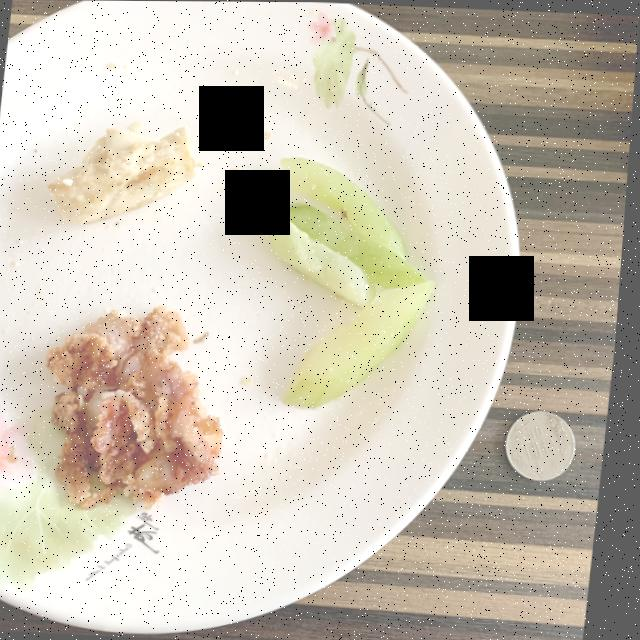coin: (511, 410, 580, 479)
red grilled pork: (50, 305, 228, 509)
